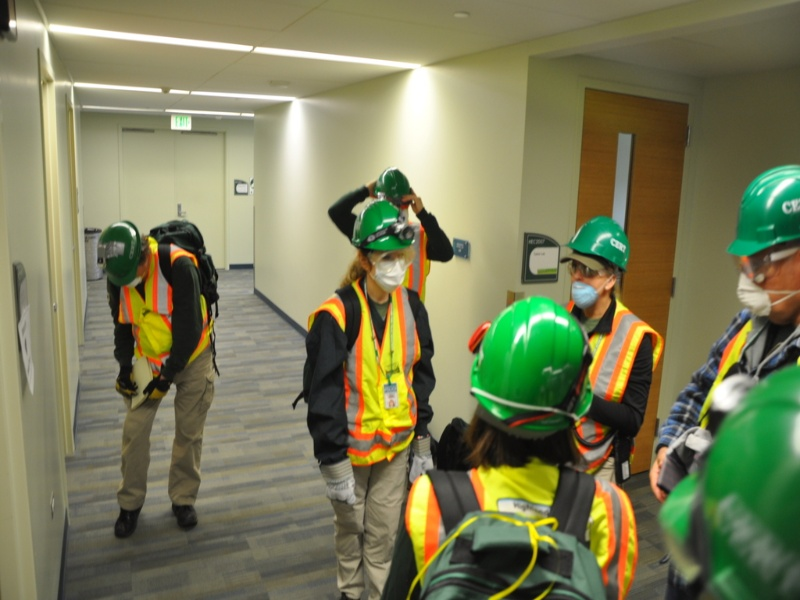Baret: (470, 296, 592, 411), (729, 165, 800, 257), (562, 216, 630, 267), (354, 201, 417, 244)
